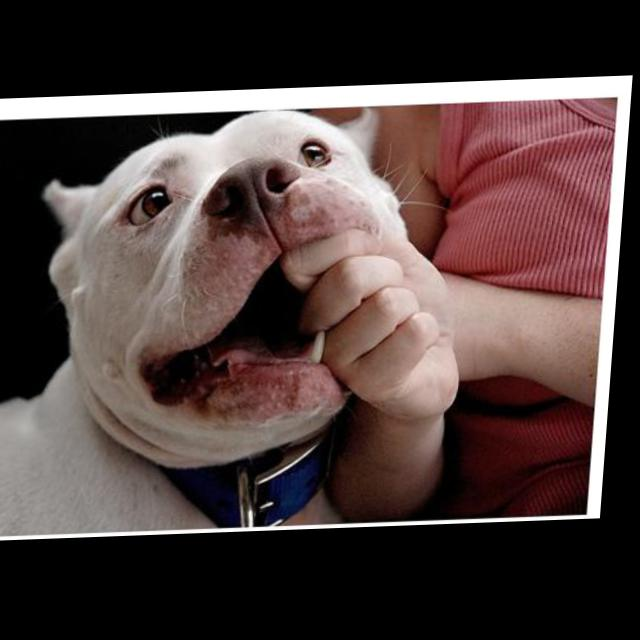amstaff: (1, 105, 484, 537)
